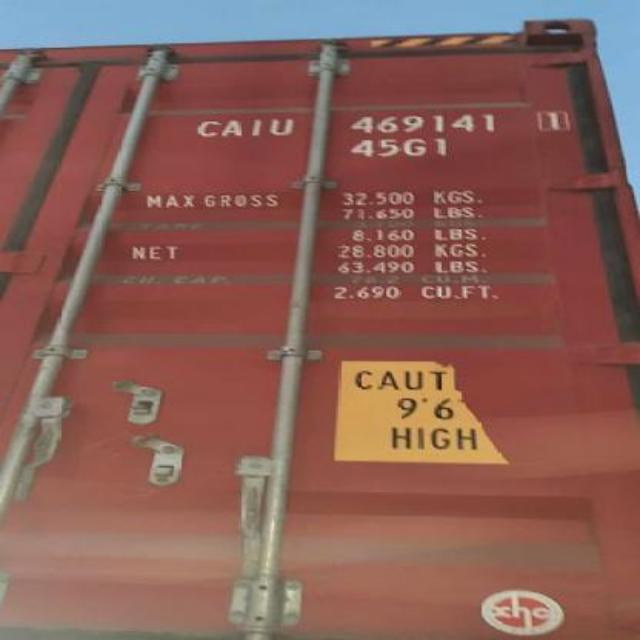1: (478, 112, 506, 134), (426, 112, 450, 134), (540, 111, 566, 129)
4: (346, 112, 374, 136), (450, 112, 480, 134)
6: (372, 113, 400, 137)
9: (398, 112, 426, 134)
A: (222, 118, 246, 138)
C: (192, 118, 222, 138)
I: (246, 118, 268, 138)
U: (268, 118, 300, 138)
